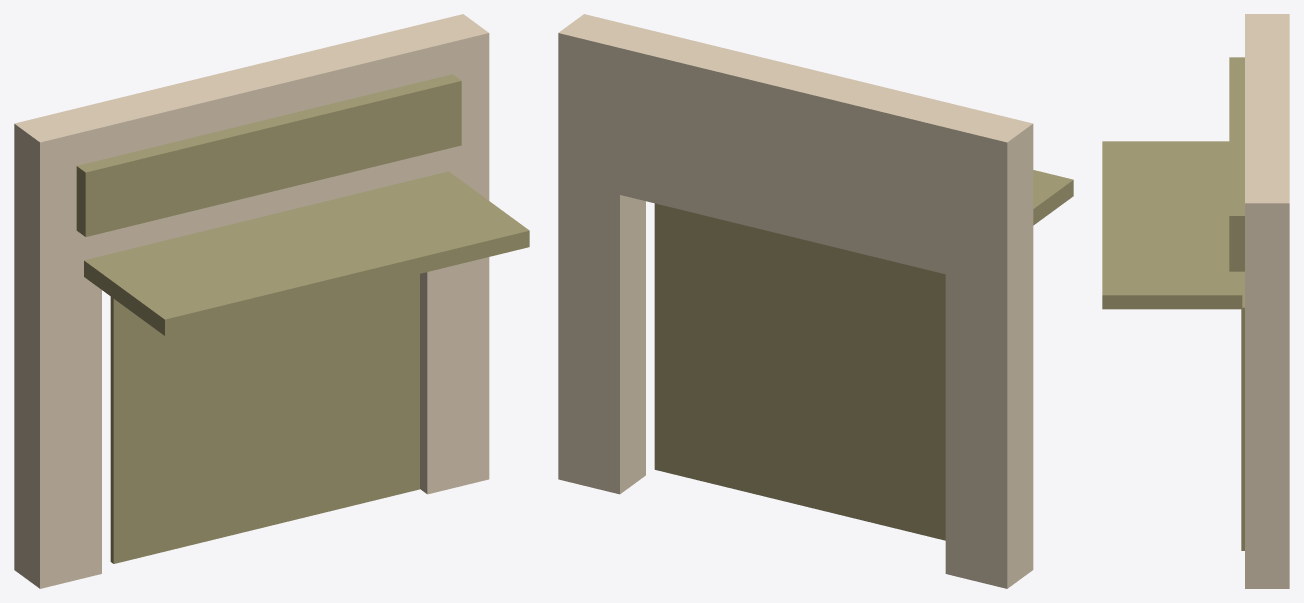
File: bh_souq_shop_toy_01_lod0.glb
The picture shows the model from 3 angles, left to right: view 1: azimuth 30°, elevation 25°; view 2: azimuth 150°, elevation 25°; view 3: azimuth 270°, elevation 25°; orthographic projection. The views are drawn at different scales.
Parts seen in each view (by area): view 1: bh_souq_shop_toy_01_infill, bh_souq_shop_toy_01_left, bh_souq_shop_toy_01_awning, bh_souq_shop_toy_01_fascia, bh_souq_shop_toy_01_top, bh_souq_shop_toy_01_right; view 2: bh_souq_shop_toy_01_infill, bh_souq_shop_toy_01_top, bh_souq_shop_toy_01_left, bh_souq_shop_toy_01_right, bh_souq_shop_toy_01_awning; view 3: bh_souq_shop_toy_01_awning, bh_souq_shop_toy_01_right, bh_souq_shop_toy_01_top, bh_souq_shop_toy_01_fascia, bh_souq_shop_toy_01_left, bh_souq_shop_toy_01_infill.
Part boxes in pixels (left/top/right/bottom): bh_souq_shop_toy_01_infill: left=110, top=274, right=419, bottom=563; bh_souq_shop_toy_01_left: left=14, top=108, right=101, bottom=588; bh_souq_shop_toy_01_awning: left=84, top=171, right=529, bottom=335; bh_souq_shop_toy_01_fascia: left=76, top=74, right=461, bottom=236; bh_souq_shop_toy_01_top: left=76, top=29, right=427, bottom=255; bh_souq_shop_toy_01_right: left=402, top=14, right=489, bottom=494; bh_souq_shop_toy_01_infill: left=654, top=203, right=945, bottom=540; bh_souq_shop_toy_01_top: left=620, top=29, right=970, bottom=274; bh_souq_shop_toy_01_left: left=945, top=108, right=1033, bottom=588; bh_souq_shop_toy_01_right: left=558, top=14, right=645, bottom=494; bh_souq_shop_toy_01_awning: left=1033, top=170, right=1073, bottom=225; bh_souq_shop_toy_01_awning: left=1102, top=141, right=1242, bottom=309; bh_souq_shop_toy_01_right: left=1245, top=177, right=1289, bottom=588; bh_souq_shop_toy_01_top: left=1245, top=40, right=1289, bottom=177; bh_souq_shop_toy_01_fascia: left=1229, top=57, right=1244, bottom=271; bh_souq_shop_toy_01_left: left=1245, top=14, right=1289, bottom=39; bh_souq_shop_toy_01_infill: left=1241, top=271, right=1244, bottom=550.
Bounding box in the file's own units: 4 × 3.8 × 1.68.
